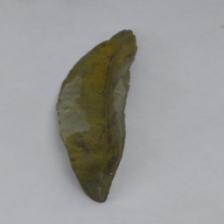black spot: (42, 60, 144, 150)
